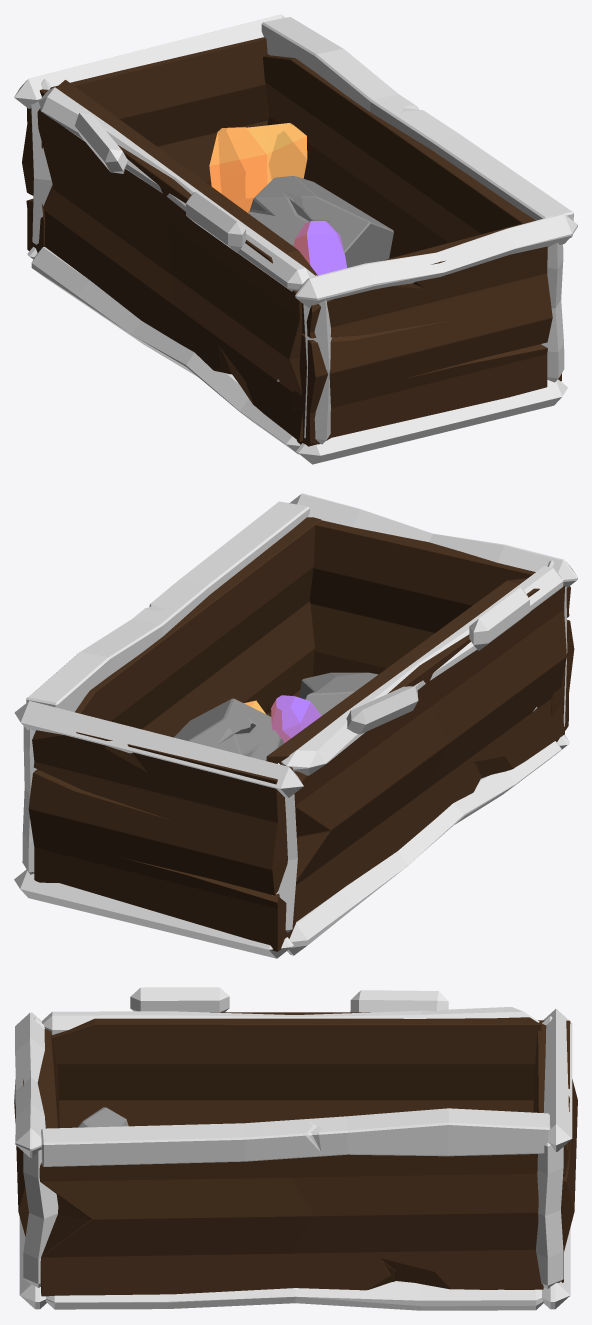
File: Chest Open 2.fbx
3 views of the same model, one above another, from view 1: azimuth 30°, elevation 25°; view 2: azimuth 150°, elevation 25°; view 3: azimuth 270°, elevation 25° (orthographic). The views are drawn at different scales.
Parts seen in each view (by area): view 1: Plank .054, Plank .051, Plank .050, Plank .052, Cube.300, Cube.298, Rock.006, Cube.293, Cylinder.083, Cube.290, Cube.301, Cube.299 (+6 smaller); view 2: Plank .054, Plank .052, Plank .050, Plank .051, Cube.300, Cube.299, Cube.293, Cube.301, Cube.291, Cube.298, Rock.006, Cube.302 (+5 smaller); view 3: Plank .050, Plank .054, Cube.300, Cube.292, Cube.301, Cube.298, Cube.295, Cube.299, Cube.294, Plank .052, Cube.303, Plank .051 (+4 smaller).
Boxes of the visible parts, x1,y1,x2,y2 form: Plank .054: (37,80,317,441); Plank .051: (292,223,552,446); Plank .050: (263,54,561,381); Plank .052: (22,37,269,252); Cube.300: (261,17,573,237); Cube.298: (295,213,577,307); Rock.006: (248,176,393,267); Cube.293: (31,247,300,454); Cylinder.083: (209,123,307,212); Cube.290: (296,379,567,464); Cube.301: (38,87,314,291); Cube.299: (14,14,284,108); Plank .054: (266,578,566,921); Plank .052: (28,730,295,951); Plank .050: (75,517,321,737); Plank .051: (309,520,574,741); Cube.300: (26,501,309,712); Cube.299: (14,701,303,797); Cube.293: (287,741,561,955); Cube.301: (281,566,563,775); Cube.291: (14,869,293,958); Cube.298: (289,493,577,587); Rock.006: (174,698,283,760); Cube.302: (346,686,418,734); Plank .050: (39,1154,543,1296); Plank .054: (52,1012,541,1127); Cube.300: (41,1108,550,1166); Cube.292: (46,1281,543,1310); Cube.301: (42,1007,539,1035); Cube.298: (15,1012,45,1157); Cube.295: (536,1142,563,1288); Cube.299: (543,1009,572,1151); Cube.294: (23,1149,58,1287); Plank .052: (533,1020,577,1282); Cube.303: (130,987,229,1012); Plank .051: (15,1029,59,1236).
Size of the model in its own units: 31.42 by 20.88 by 52.85.
